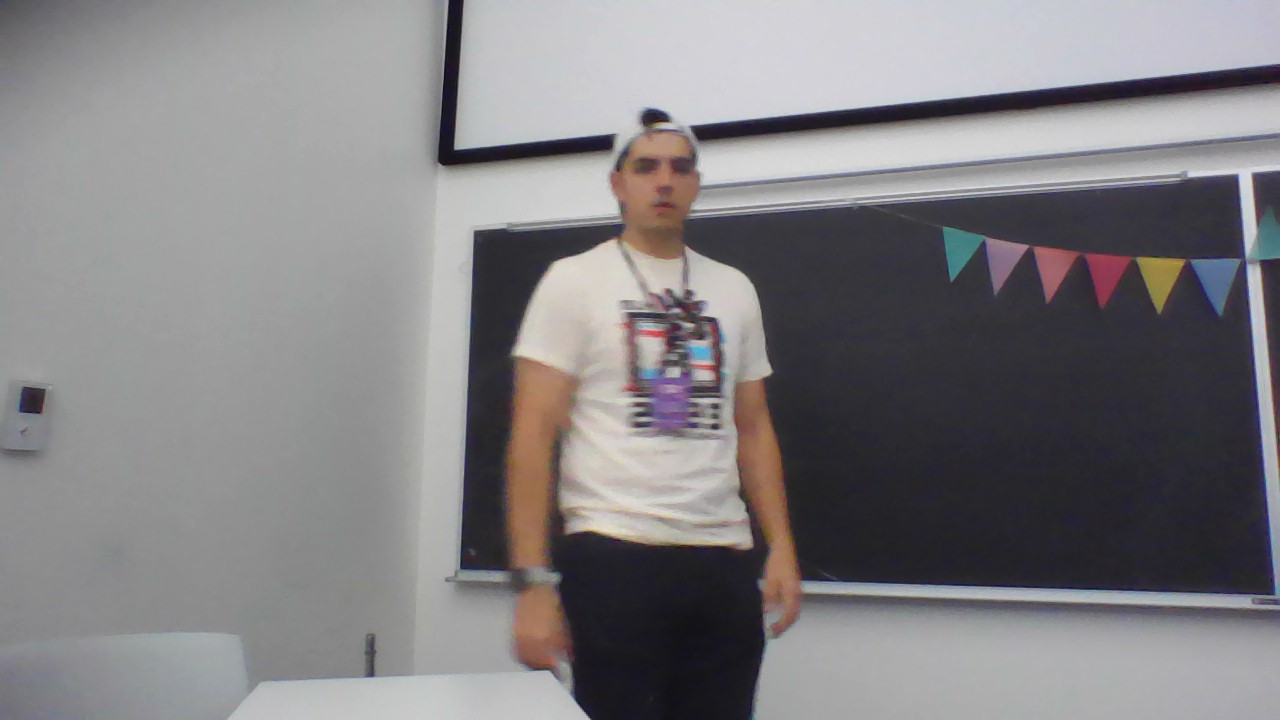height_frame: (498, 105, 818, 720)
hip_frame: (551, 517, 760, 567)
shoulder_frame: (552, 260, 757, 295)
waist_frame: (556, 435, 739, 469)
